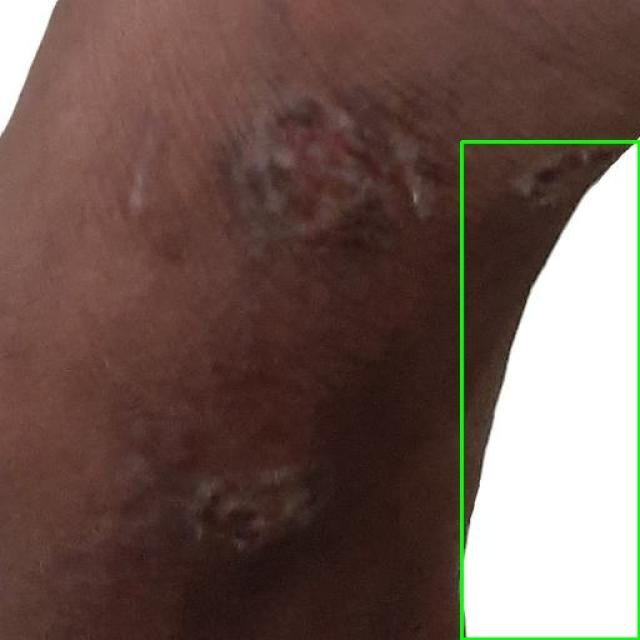Eczema: (461, 141, 639, 639)
